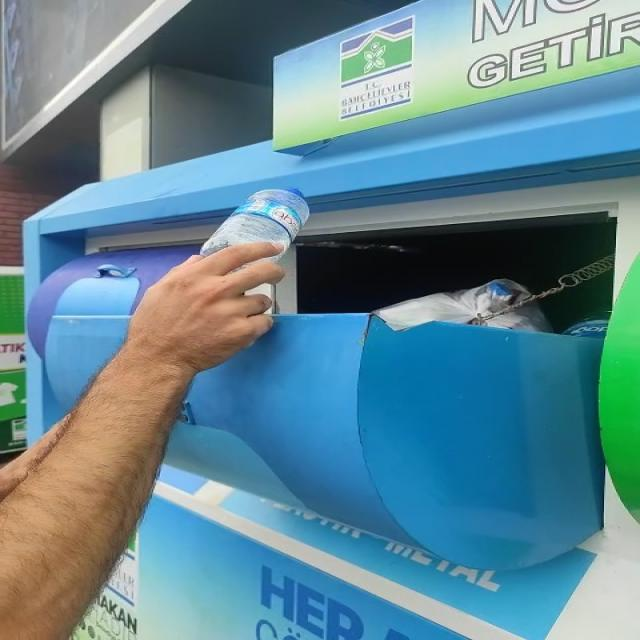Plastic: (200, 189, 309, 256)
